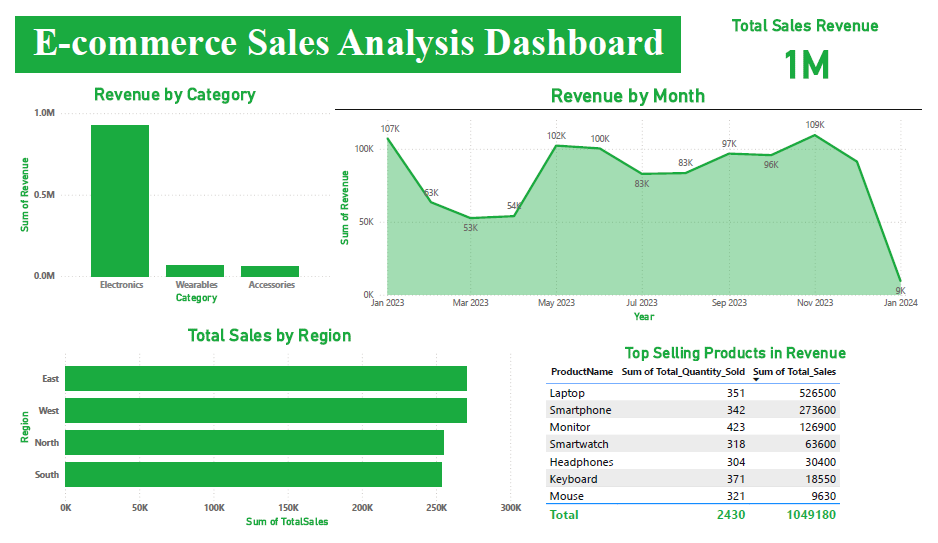

This screenshot's page, from the dashboard's own definition file:
{"tool":"powerbi","page":{"name":"SalesAnalysis","canvas":[1280,720],"ordinal":1},"visuals":[{"type":"textbox","box":[0,0,933.1,79.2],"z":0},{"type":"card","title":"Total Sales Revenue","fields":{"Values":["Sum(SA-TotalSalesRevenue.Total_Sales_Revenue$)"]},"box":[933.1,0,347,95],"z":1000},{"type":"clusteredColumnChart","title":"Revenue by Category","fields":{"Category":["SA-RevenuebyProductCategory.Category"],"Y":["Sum(SA-RevenuebyProductCategory.Revenue)"]},"box":[0,95,448.3,311.7],"z":2000},{"type":"clusteredBarChart","title":"Total Sales by Region","fields":{"Category":["SA-RevenuebyRegion.Region"],"Y":["Sum(SA-RevenuebyRegion.TotalSales)"]},"box":[0,431.7,713.3,288.3],"z":3000},{"type":"lineChart","title":"Revenue by Month","fields":{"Y":["Sum(SA-RevenuebyMonth.Revenue)"],"Category":["SA-RevenuebyMonth.Month.Variation.Date Hierarchy.Year","SA-RevenuebyMonth.Month.Variation.Date Hierarchy.Quarter","SA-RevenuebyMonth.Month.Variation.Date Hierarchy.Month","SA-RevenuebyMonth.Month.Variation.Date Hierarchy.Day"]},"box":[448.3,95,820,336.7],"z":4000},{"type":"tableEx","title":"Top Selling Products in Revenue","fields":{"Values":["SA-TopSellingProductinRevenue.ProductName","Sum(SA-TopSellingProductinRevenue.Total_Quantity_Sold)","Sum(SA-TopSellingProductinRevenue.Total_Sales)"]},"box":[736.7,458.3,543.3,261.7],"z":5000}]}

Visuals, with their boxes in screenshot pixels (x1, y1, x2, y2), scaled from the page's 1280x720 canvas onto the 938x543 screenshot:
textbox: left=0, top=0, right=684, bottom=60
"Total Sales Revenue" card: left=684, top=0, right=937, bottom=72
"Revenue by Category" clusteredColumnChart: left=0, top=72, right=329, bottom=307
"Total Sales by Region" clusteredBarChart: left=0, top=326, right=523, bottom=542
"Revenue by Month" lineChart: left=329, top=72, right=929, bottom=326
"Top Selling Products in Revenue" tableEx: left=540, top=346, right=937, bottom=542
